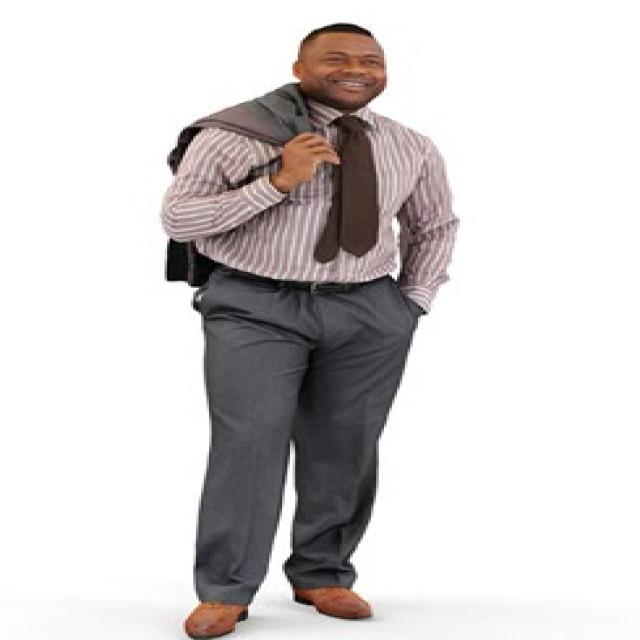standing: (157, 18, 472, 640)
